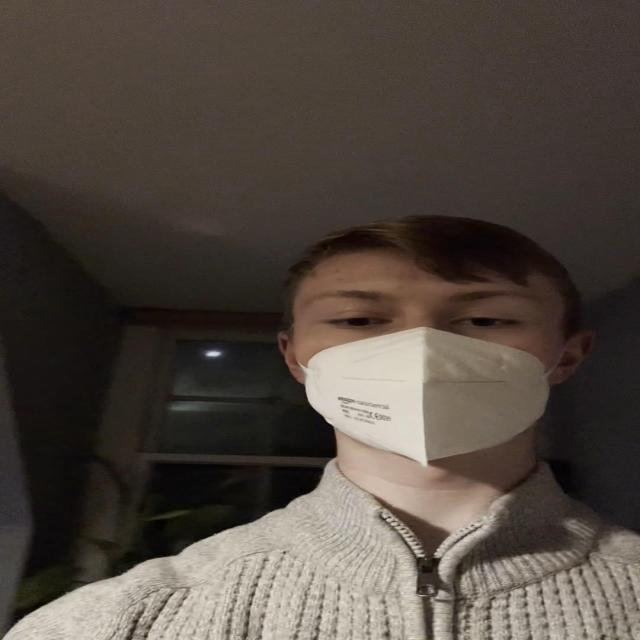no-helmet: (289, 248, 572, 462)
